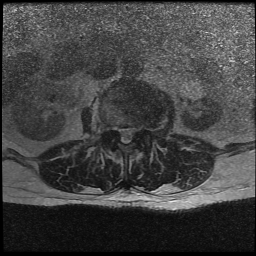CCS_normal: (122, 122, 129, 150)
LFS_stenosis: (136, 121, 143, 143)
LLS_stenosis: (130, 123, 136, 143)
RFS_stenosis: (110, 121, 118, 143)
RLS_stenosis: (117, 122, 123, 143)
